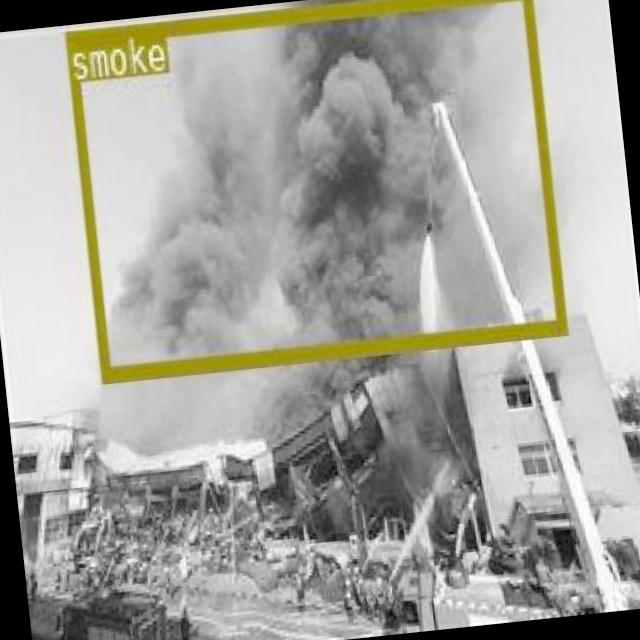smoke: (63, 0, 565, 378)
